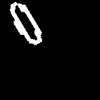chain: (10, 2, 41, 44)
